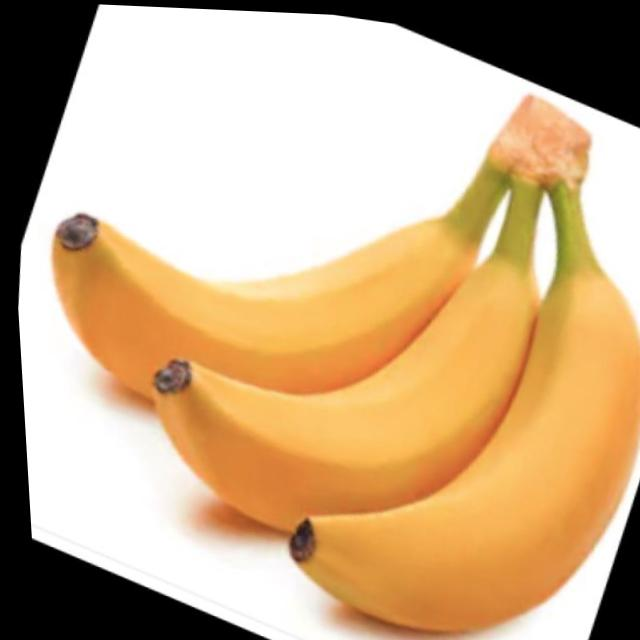Banana: (5, 69, 640, 640)
